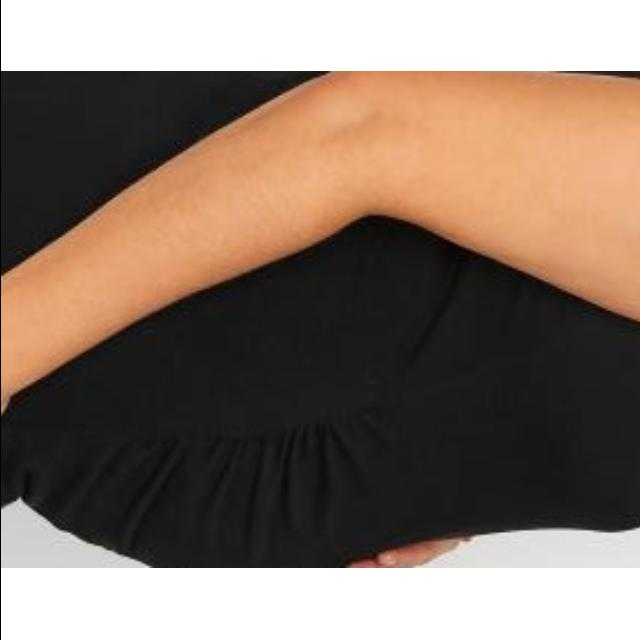polyester: (0, 71, 640, 568)
